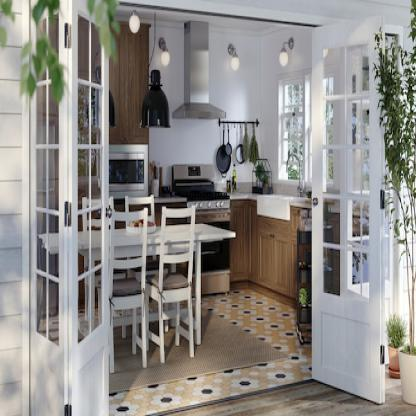chair: (151, 205, 205, 355), (106, 204, 155, 364), (125, 190, 172, 276), (86, 193, 129, 279)
door: (304, 28, 394, 403), (69, 10, 109, 416), (36, 0, 72, 409)
light: (223, 0, 243, 88), (159, 7, 183, 77), (273, 0, 289, 74), (120, 0, 147, 36)
table: (32, 227, 238, 350)
